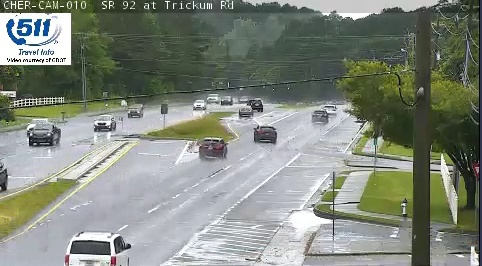car: (64, 232, 130, 266), (199, 138, 227, 157), (256, 127, 277, 142), (312, 109, 327, 123)
